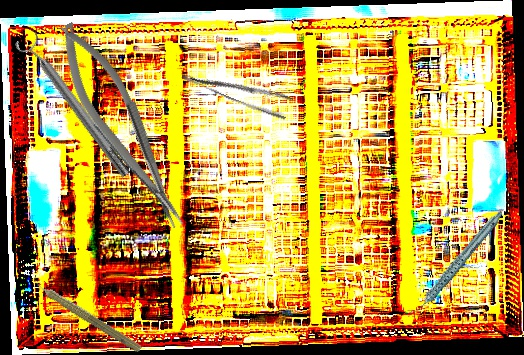Dressing Forceps: (180, 55, 294, 123)
Fixation Ring: (13, 28, 137, 184)
Handpiece: (391, 209, 521, 318), (25, 272, 145, 355)
Needle Holder: (45, 12, 195, 241)
